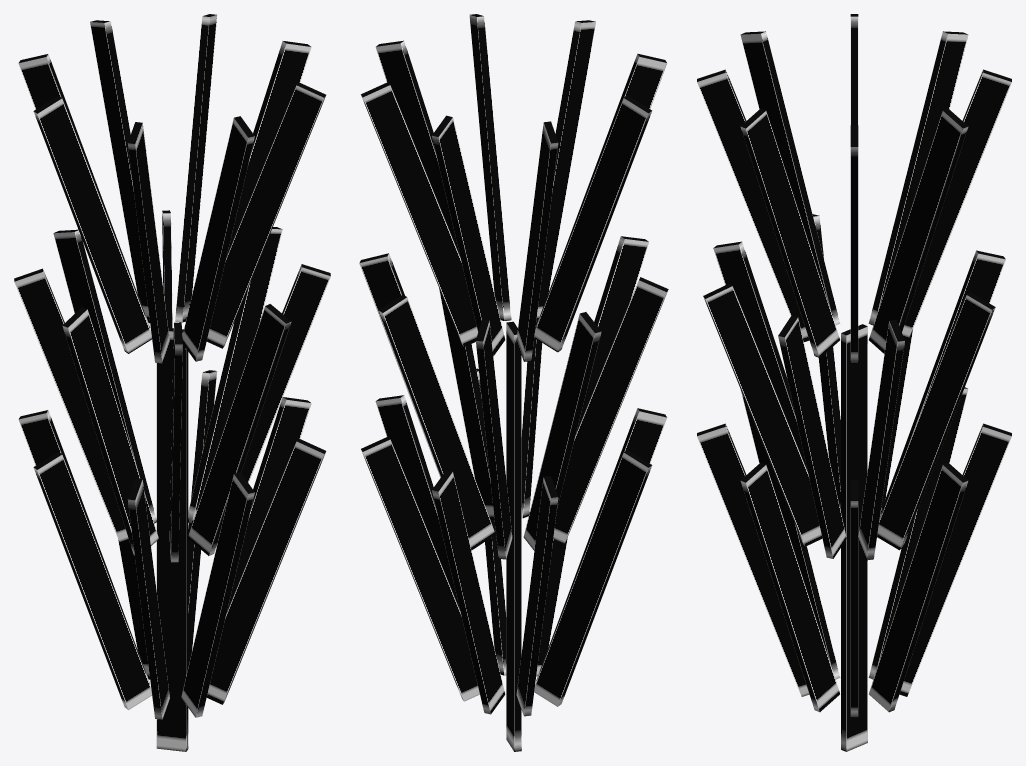
File: Bush.FBX
3 views of the same model, side by side, from view 1: azimuth 30°, elevation 25°; view 2: azimuth 150°, elevation 25°; view 3: azimuth 270°, elevation 25° (orthographic).
Parts seen in each view (by area): view 1: Box008, Box006, Box003, Box009, Box014, Box019, Box011, Box004, Box016, Box021, Box005, Box020 (+13 smaller); view 2: Box003, Box006, Box024, Box027, Box004, Box025, Box008, Box017, Box020, Box011, Box021, Box014 (+13 smaller); view 3: Box008, Box025, Box019, Box024, Box009, Box014, Box027, Box012, Box017, Box016, Box020, Box021 (+12 smaller).
Boxes of the visible parts, x1,y1,x2,y2 form: Box008: (156, 327, 188, 751); Box006: (33, 95, 151, 353); Box003: (33, 451, 151, 709); Box009: (206, 438, 326, 704); Box014: (206, 82, 326, 348); Box019: (187, 304, 291, 555); Box011: (14, 268, 128, 541); Box004: (62, 307, 158, 555); Box016: (181, 472, 254, 717); Box021: (182, 116, 254, 361); Box005: (188, 227, 282, 523); Box020: (90, 20, 149, 323); Box003: (534, 449, 652, 706); Box006: (534, 95, 651, 352); Box024: (361, 436, 479, 701); Box027: (361, 82, 477, 346); Box004: (553, 277, 668, 543); Box025: (379, 294, 495, 550); Box008: (506, 321, 521, 751); Box017: (432, 470, 505, 714); Box020: (432, 115, 505, 356); Box011: (523, 312, 601, 550); Box021: (536, 20, 595, 321); Box014: (469, 14, 511, 320); Box008: (841, 324, 867, 751); Box025: (877, 292, 995, 550); Box019: (703, 283, 822, 546); Box024: (869, 462, 968, 712); Box009: (740, 462, 839, 712); Box014: (740, 108, 839, 357); Box027: (869, 108, 968, 353); Box012: (778, 315, 846, 558); Box017: (899, 423, 1011, 696); Box016: (697, 423, 809, 696); Box020: (902, 69, 1011, 342); Box021: (697, 69, 809, 341).
Bounding box in the file's own units: 1.04 × 2.47 × 1.04.
